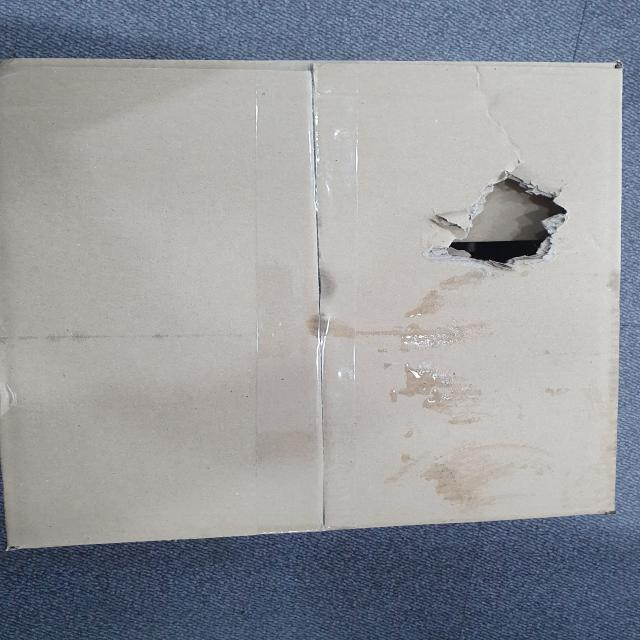hole: (409, 164, 575, 279)
